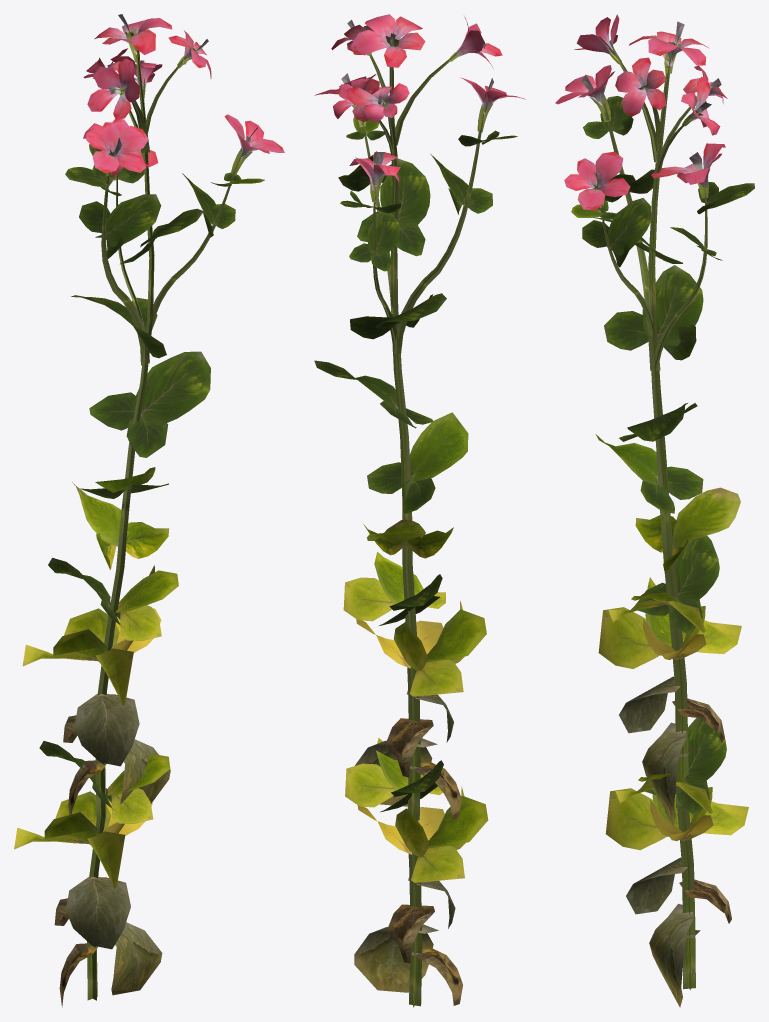
The model's file is Periwinkle_bush_long_red.glb.
3 renders of one model, left to right at view 1: azimuth 30°, elevation 25°; view 2: azimuth 150°, elevation 25°; view 3: azimuth 270°, elevation 25°, orthographic.
Parts seen in each view (by area): view 1: _b868_Var1_LOD1.2; view 2: _b868_Var1_LOD1.2; view 3: _b868_Var1_LOD1.2.
Boxes of the visible parts, bbox=[...] form: _b868_Var1_LOD1.2: bbox=[14, 14, 284, 1007]; _b868_Var1_LOD1.2: bbox=[314, 14, 525, 1007]; _b868_Var1_LOD1.2: bbox=[555, 14, 754, 1007].
Size of the model in its own units: 0.7607 by 3.45 by 0.6398.
1 material, 1 textured.
